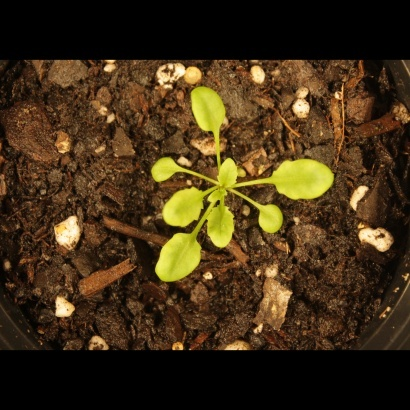leaf: (267, 153, 341, 204), (183, 83, 235, 137), (154, 230, 204, 285), (157, 189, 210, 228), (206, 201, 239, 248), (255, 201, 288, 238), (147, 151, 184, 183), (215, 155, 242, 196)
